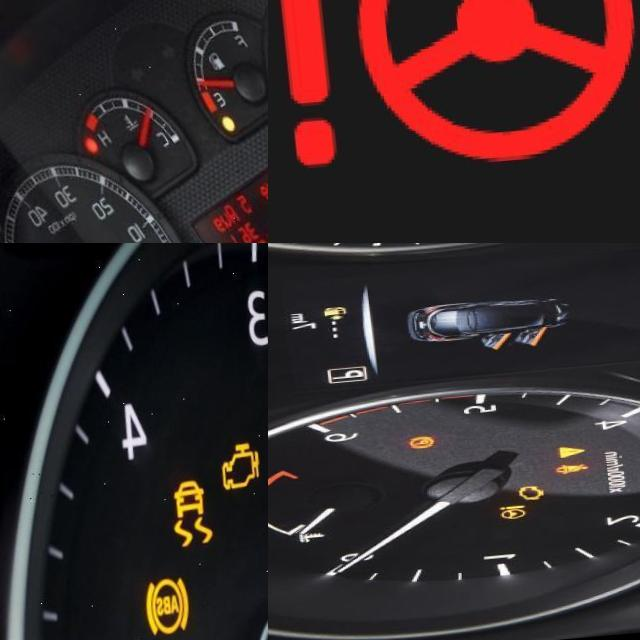Electronic Power Steering: (268, 0, 639, 180), (485, 509, 514, 530)
Seat Belt: (543, 468, 578, 488)
